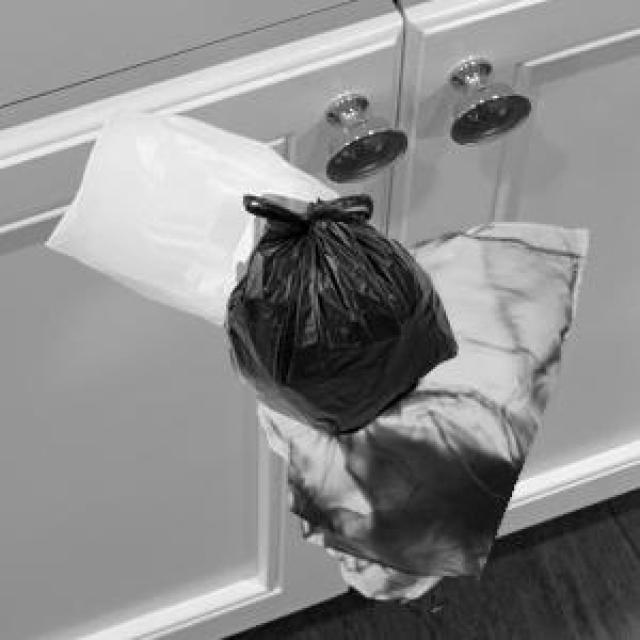miscellaneous trash: (222, 192, 452, 433)
